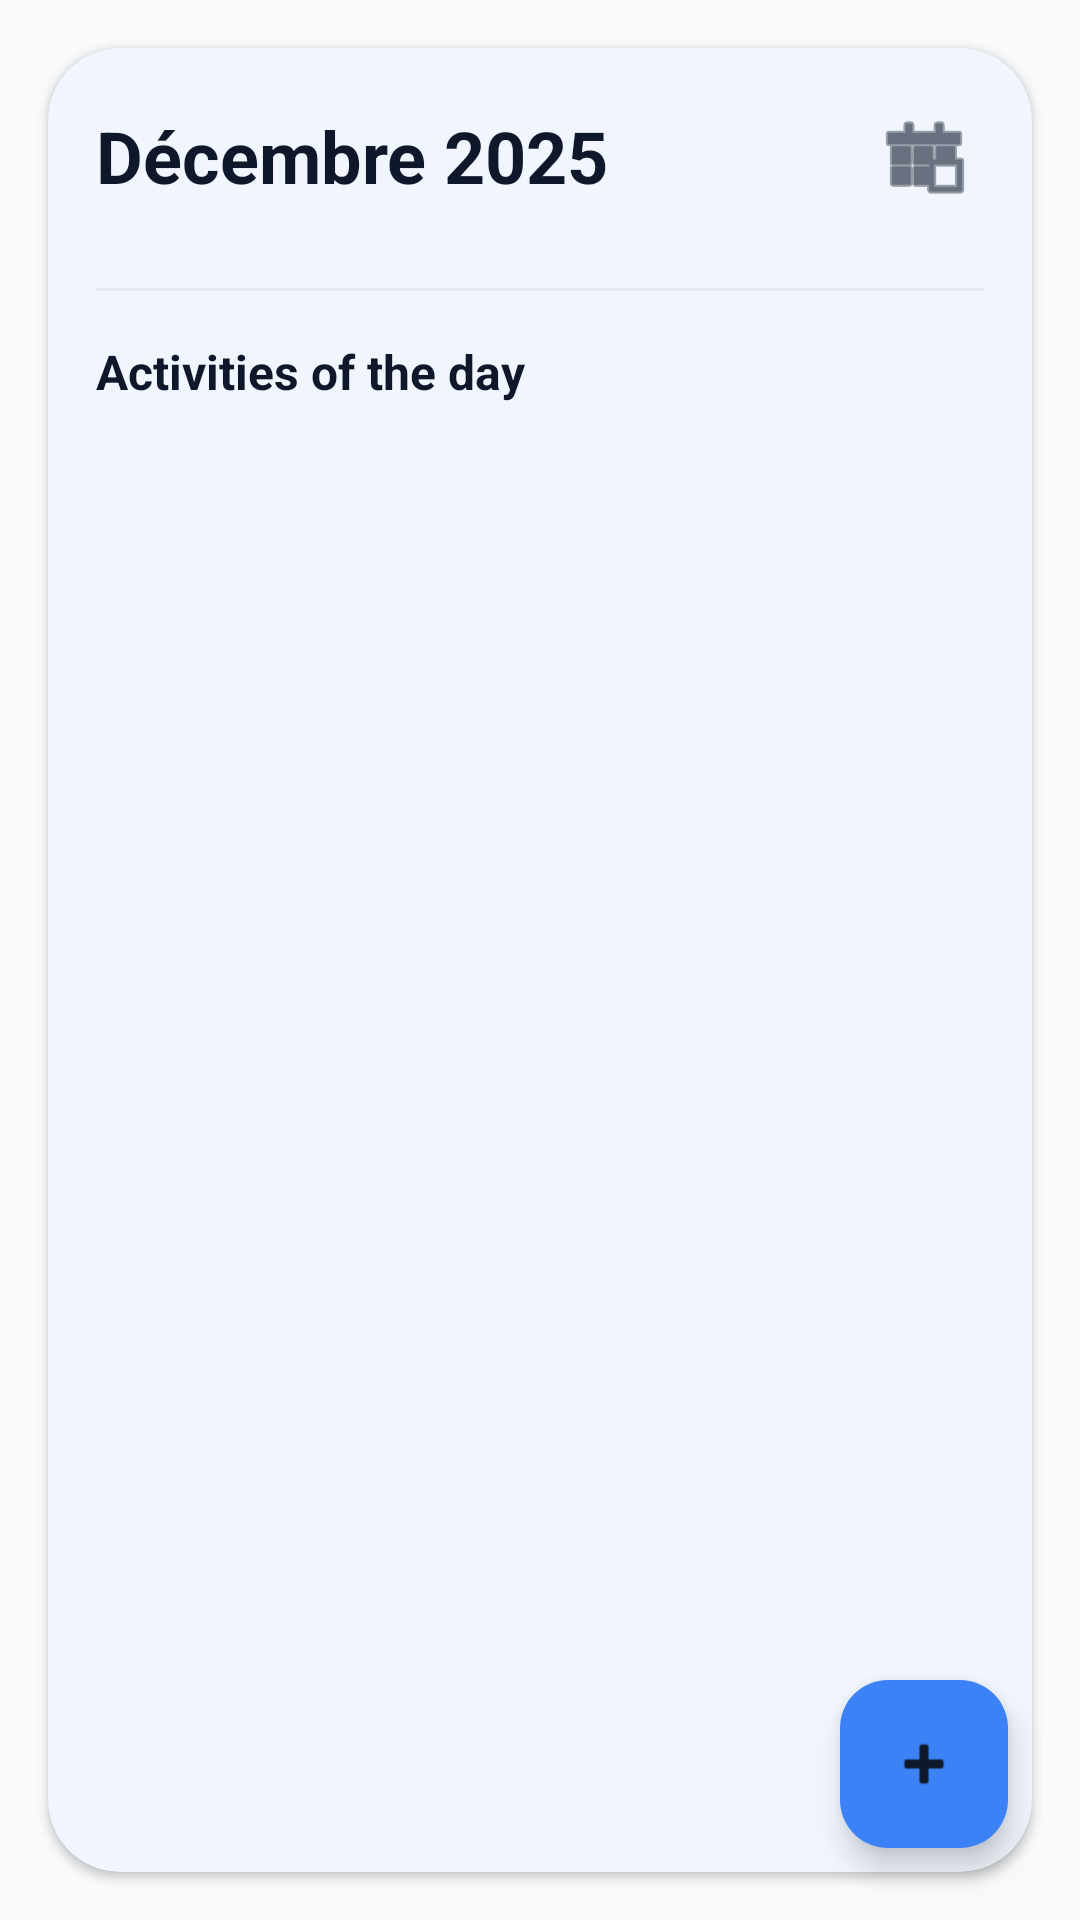

Screen size 1080px×1920px. Icon name, then its box in pixels as (x1, y1, x2, y2):
Add an activity: (840, 1680, 1008, 1848)
Go to today: (886, 121, 964, 194)
